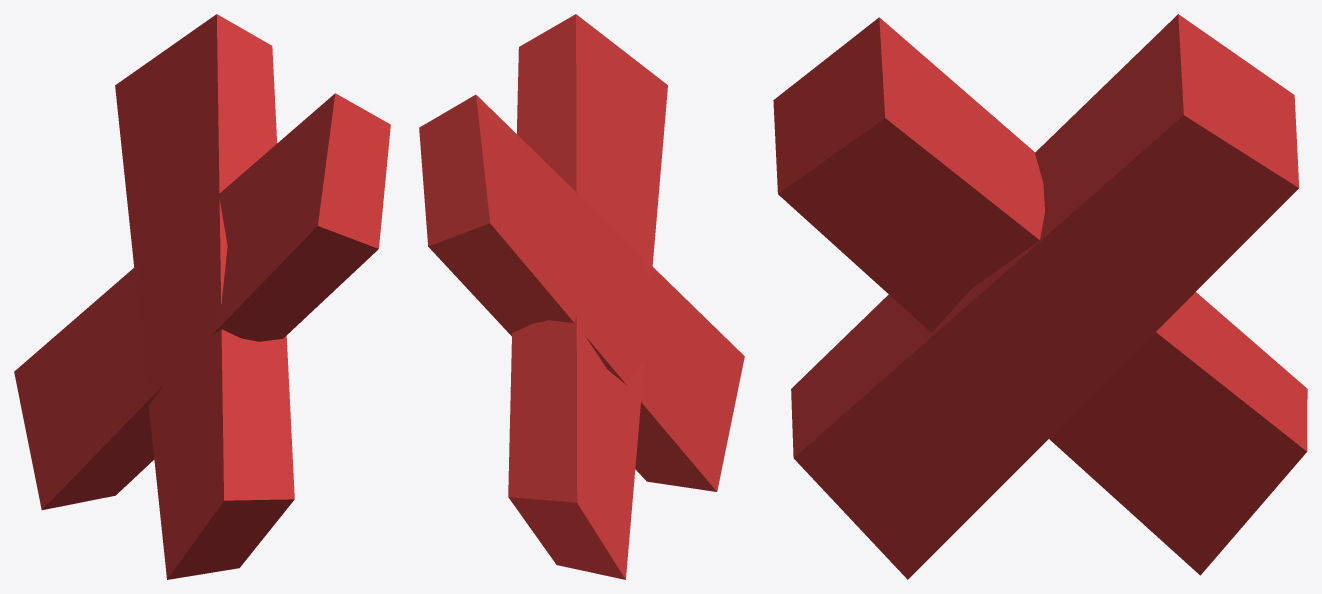
Rendered from mark2.dae.
The picture shows the model from 3 angles, left to right: view 1: azimuth 30°, elevation 25°; view 2: azimuth 150°, elevation 25°; view 3: azimuth 270°, elevation 25°; orthographic projection. The views are drawn at different scales.
Parts seen in each view (by area): view 1: Cube, Cube.2; view 2: Cube, Cube.2; view 3: Cube, Cube.2.
Part boxes in pixels (x1,y1,x2,y2): Cube: [115, 14, 294, 579]; Cube.2: [14, 93, 390, 510]; Cube: [419, 94, 744, 491]; Cube.2: [508, 14, 667, 579]; Cube: [791, 14, 1299, 579]; Cube.2: [773, 17, 1307, 575].
Bounding box in the file's own units: 157 × 304 × 236.
